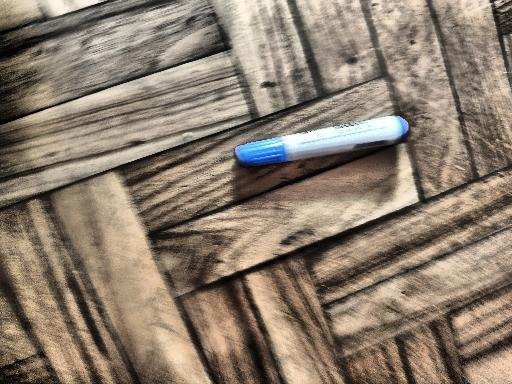marcador azul: (235, 116, 409, 167)
